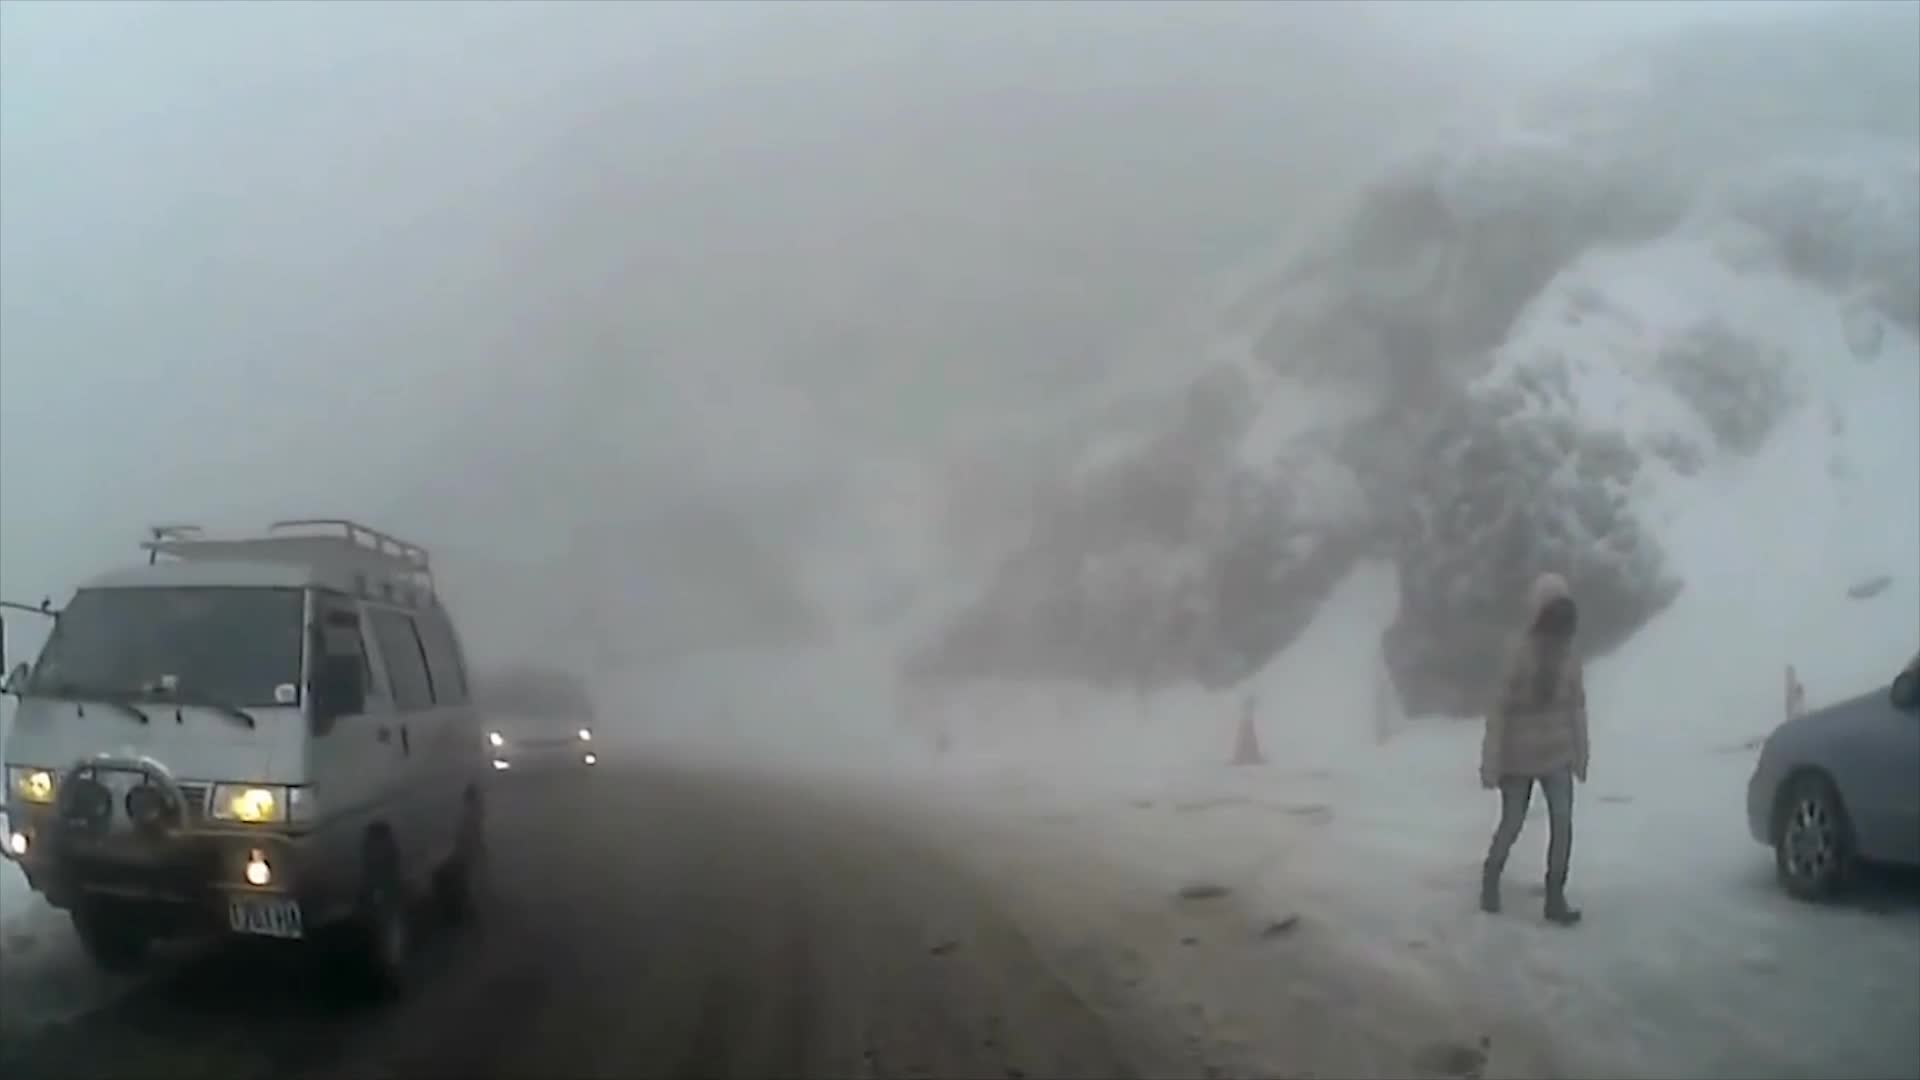pedestrian: (1473, 575, 1592, 927)
vehicle: (0, 511, 495, 1001), (1743, 651, 1920, 914), (441, 669, 600, 788)
